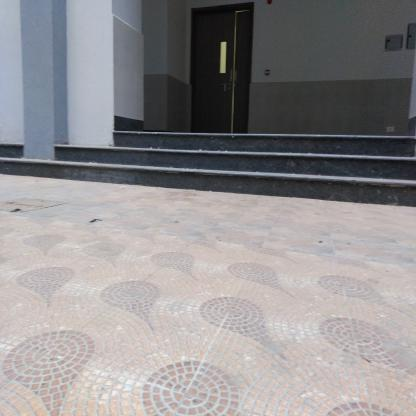stairs: (116, 131, 416, 197)
